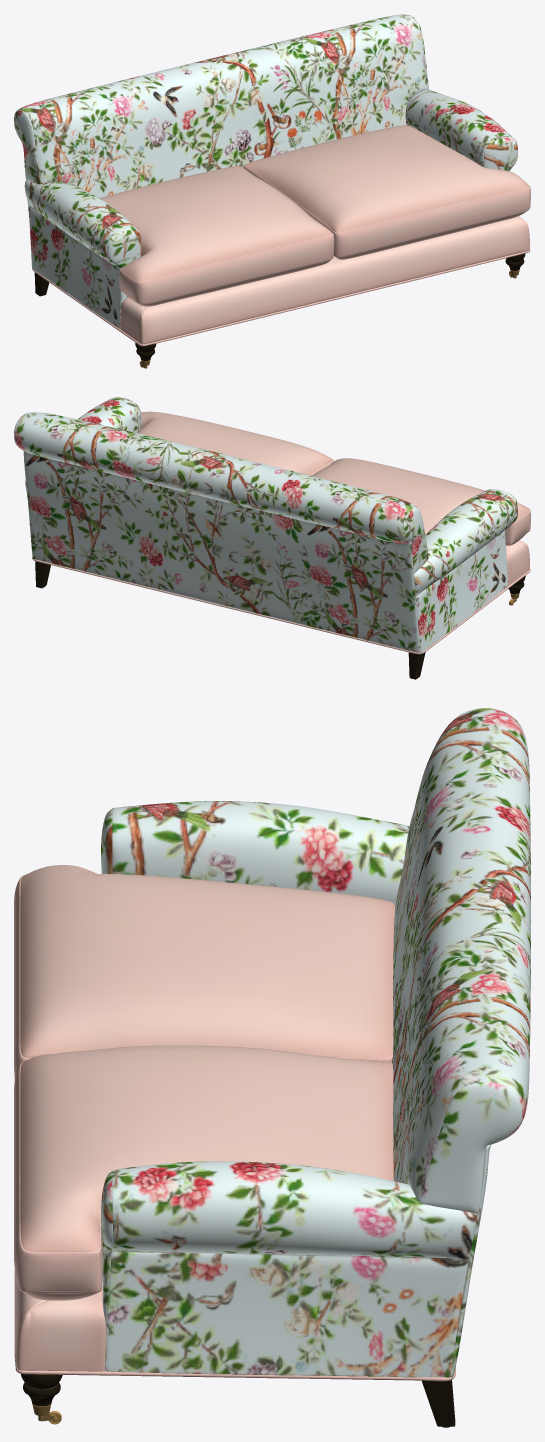
File: HavenviewWillough.glb
3 views of the same model, one above another, from view 1: azimuth 30°, elevation 25°; view 2: azimuth 150°, elevation 25°; view 3: azimuth 270°, elevation 25° (orthographic). The views are drawn at different scales.
Visible parts, largest first — view 1: Havenview_Willough.001; view 2: Havenview_Willough.001; view 3: Havenview_Willough.001.
Part boxes in pixels (left/top/right/bottom): Havenview_Willough.001: left=14, top=14, right=530, bottom=368; Havenview_Willough.001: left=14, top=397, right=530, bottom=679; Havenview_Willough.001: left=14, top=708, right=530, bottom=1427.
Size of the model in its own units: 2.01 by 0.8383 by 1.09.
Materials: 1 (1 with a texture image).
